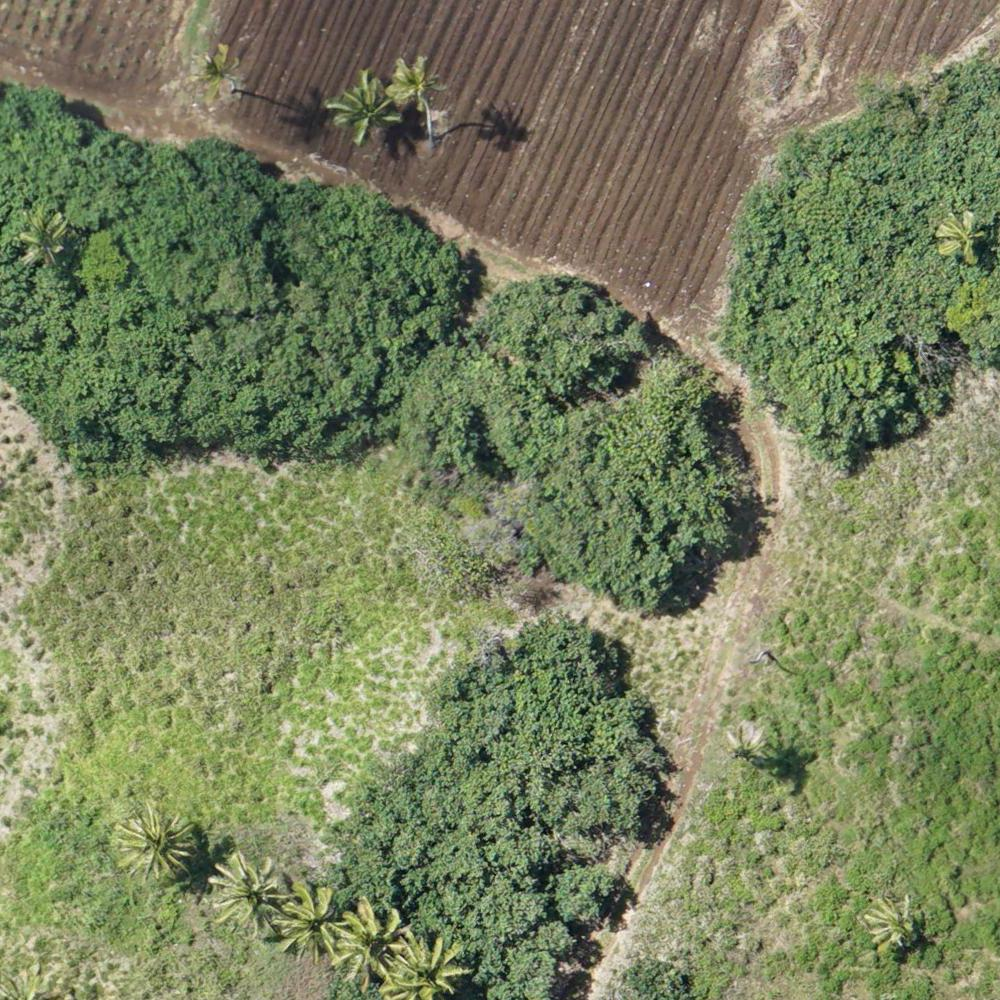Palm: (116, 805, 196, 886), (212, 852, 286, 938), (340, 895, 412, 982), (380, 929, 468, 1000), (280, 886, 348, 959), (330, 69, 402, 134), (861, 896, 921, 950), (383, 56, 445, 108), (930, 209, 986, 264), (193, 47, 245, 102)
